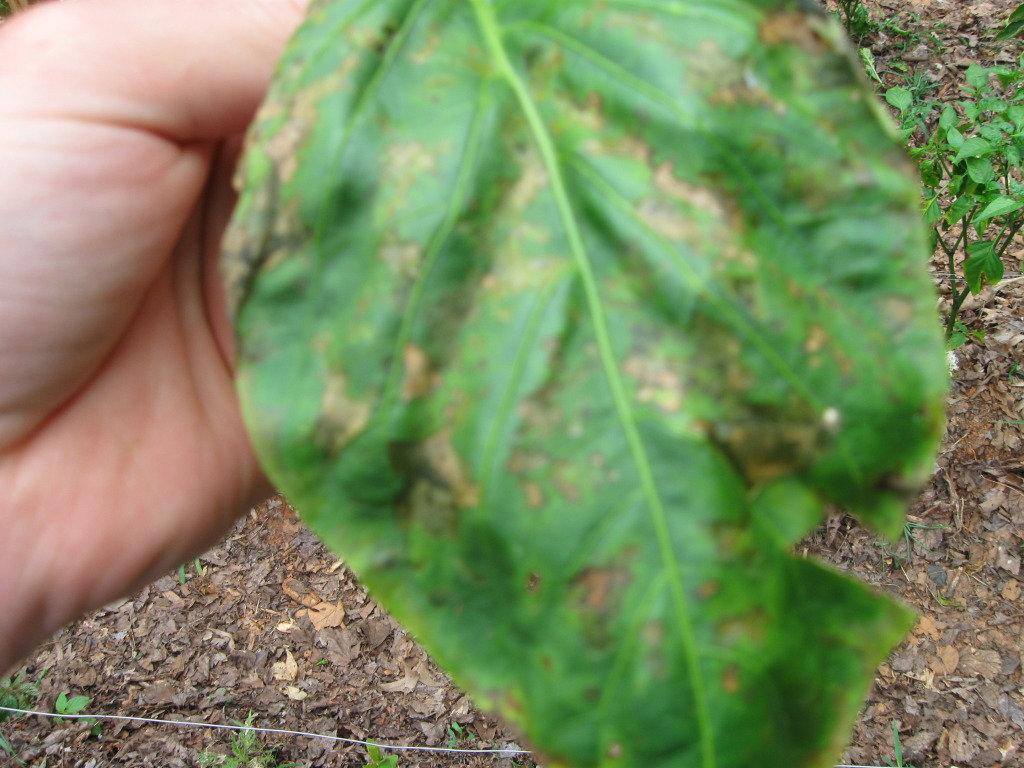Bell_pepper leaf: (252, 1, 942, 741)
